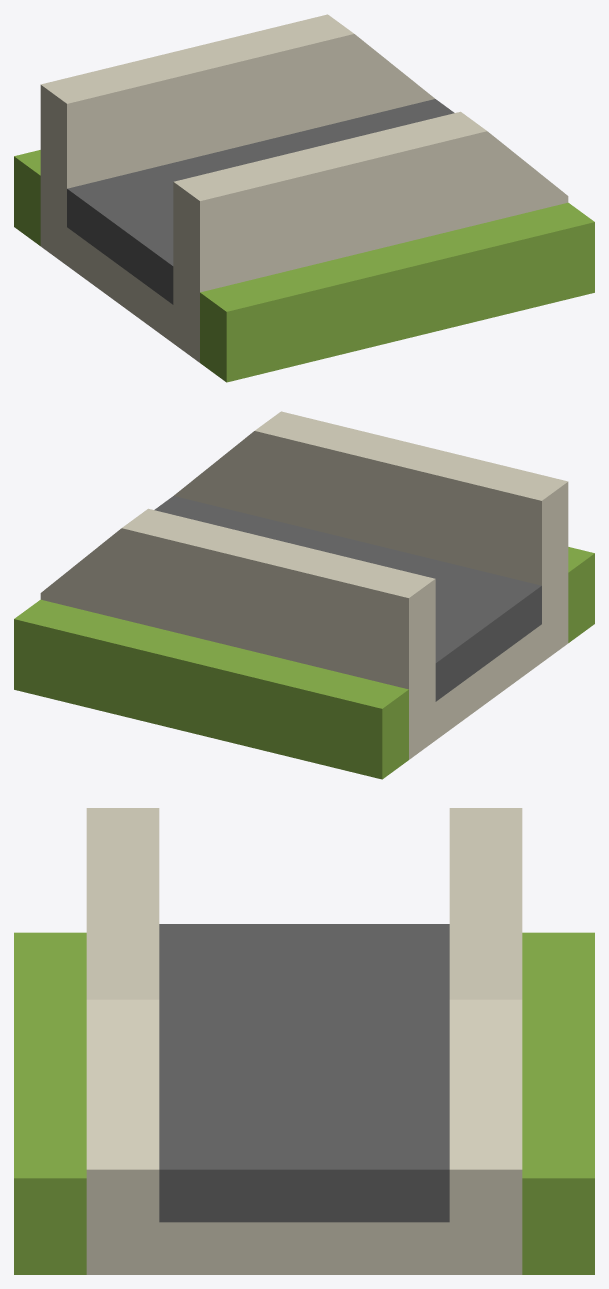
The model's file is roadTile_193.fbx.
3 views of the same model, one above another, from view 1: azimuth 30°, elevation 25°; view 2: azimuth 150°, elevation 25°; view 3: azimuth 270°, elevation 25° (orthographic). The views are drawn at different scales.
Parts seen in each view (by area): view 1: roadTile_193; view 2: roadTile_193; view 3: roadTile_193.
Boxes of the visible parts, bbox=[...] form: roadTile_193: bbox=[14, 14, 594, 382]; roadTile_193: bbox=[14, 411, 594, 779]; roadTile_193: bbox=[14, 808, 594, 1274].
Bounding box in the file's own units: 118 × 49.61 × 118.
